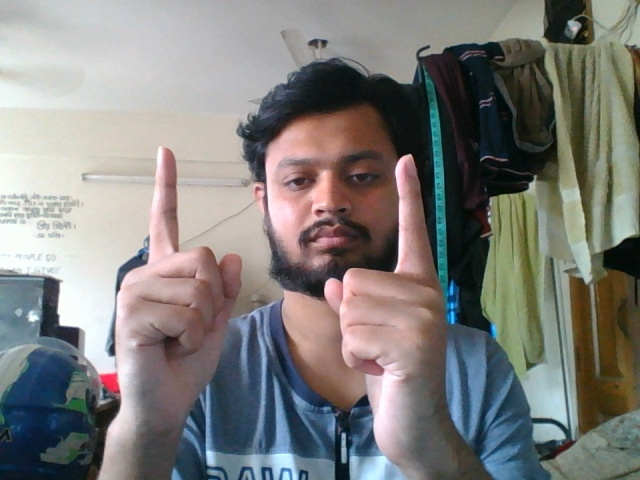ishara: (104, 142, 501, 469)
